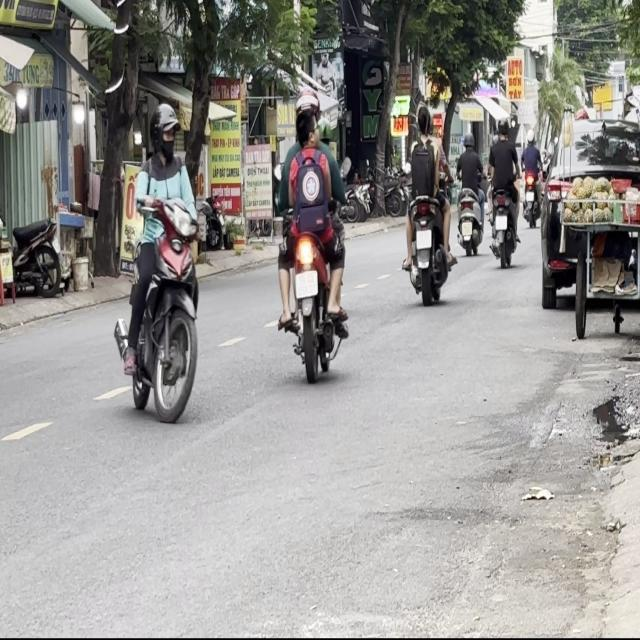helmet: (149, 102, 180, 161), (293, 86, 320, 122)
licenseplate: (120, 98, 205, 422), (274, 89, 350, 380), (400, 103, 455, 305)
motorcyclist: (292, 88, 320, 148), (293, 106, 319, 148), (415, 102, 432, 138)
nohelmet: (295, 272, 317, 298), (416, 230, 432, 248)
